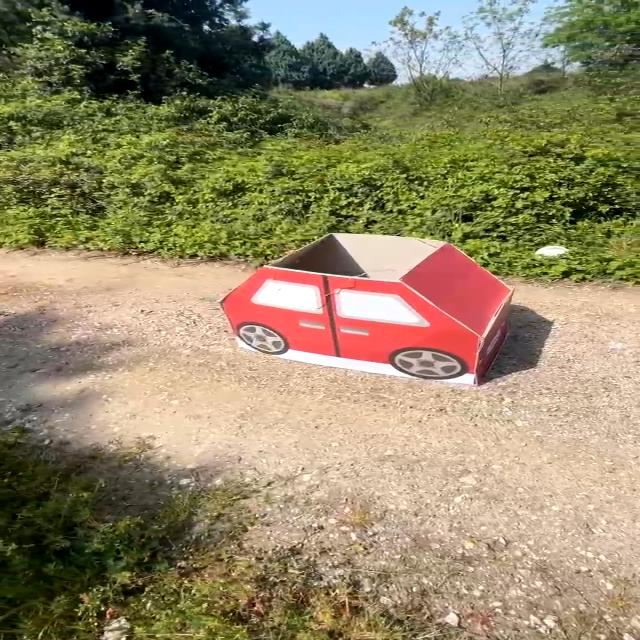red_car: (199, 225, 571, 402)
